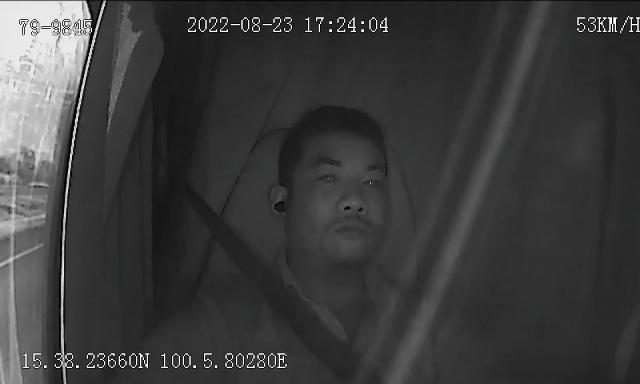SafeDriving: (312, 160, 344, 192)
Seatbelt: (165, 164, 418, 384)
